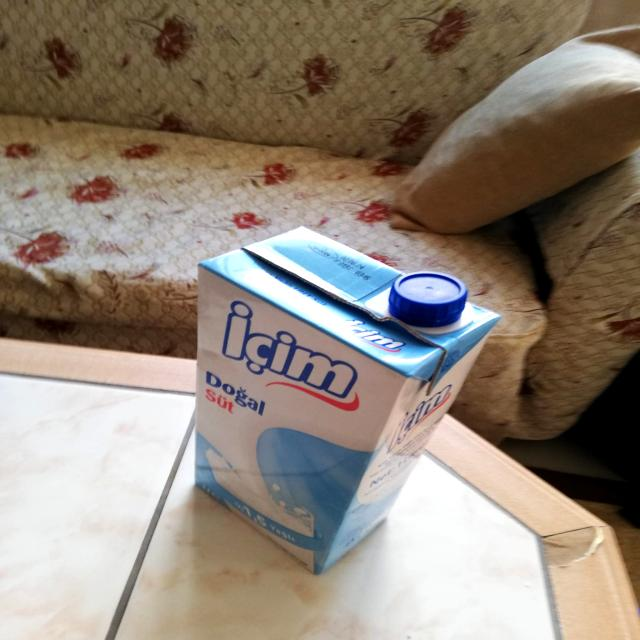milk: (192, 223, 484, 563)
